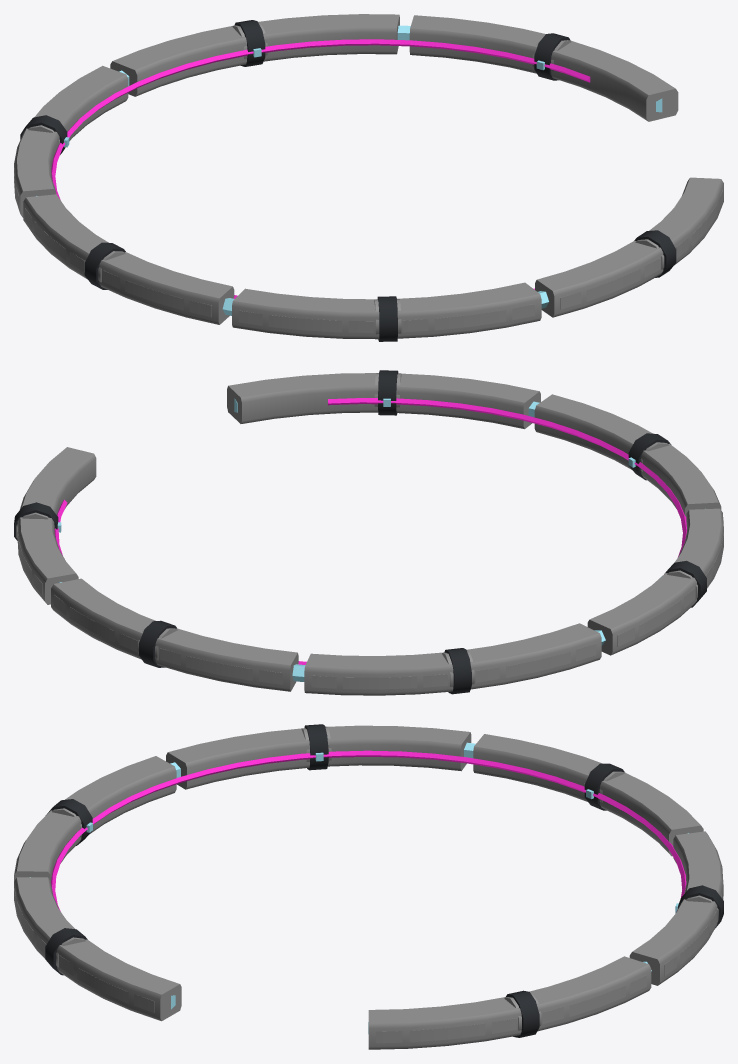
File: Monument_Ring_B.fbx
3 renders of one model, top to bottom at view 1: azimuth 30°, elevation 25°; view 2: azimuth 150°, elevation 25°; view 3: azimuth 270°, elevation 25°, orthographic.
Parts seen in each view (by area): view 1: Monument_Ring_B_LOD0; view 2: Monument_Ring_B_LOD0; view 3: Monument_Ring_B_LOD0.
Part boxes in pixels (x1,y1,x2,y2): Monument_Ring_B_LOD0: (14, 14, 723, 341); Monument_Ring_B_LOD0: (14, 370, 723, 695); Monument_Ring_B_LOD0: (14, 724, 723, 1049).
Size of what is drawn, in the model's own units: 4.64 by 0.3 by 4.64.
